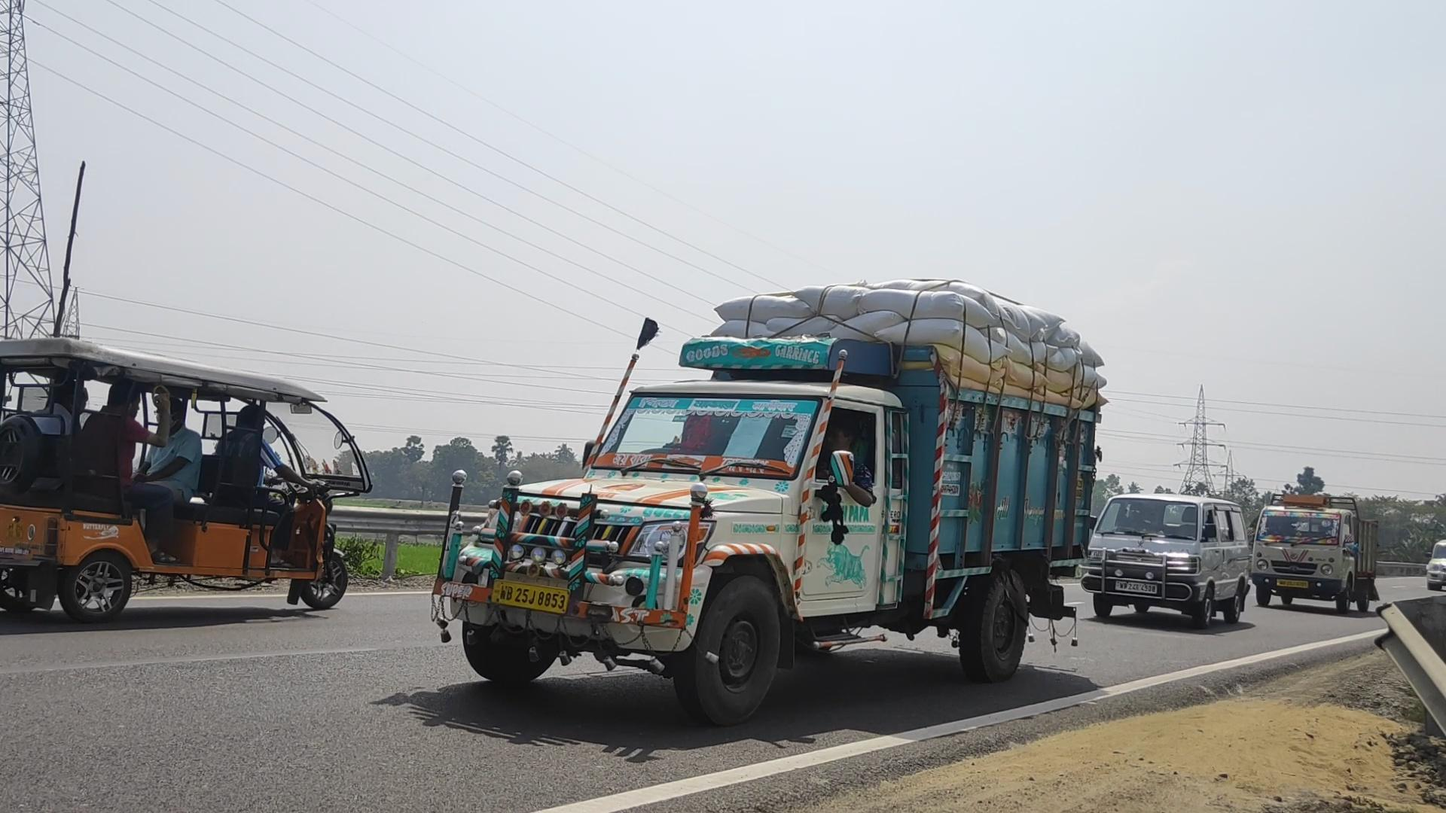Auto: (1, 337, 373, 623)
van: (432, 279, 1108, 724), (1079, 493, 1252, 629), (1251, 493, 1379, 615)
